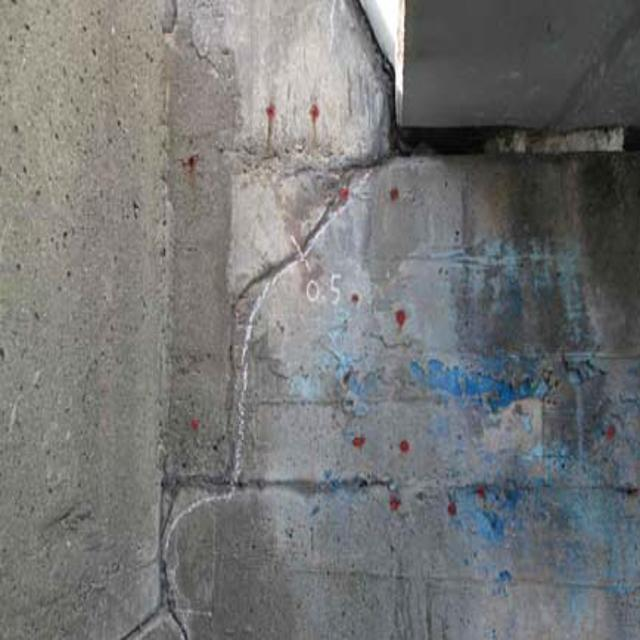crack: (140, 164, 341, 640)
